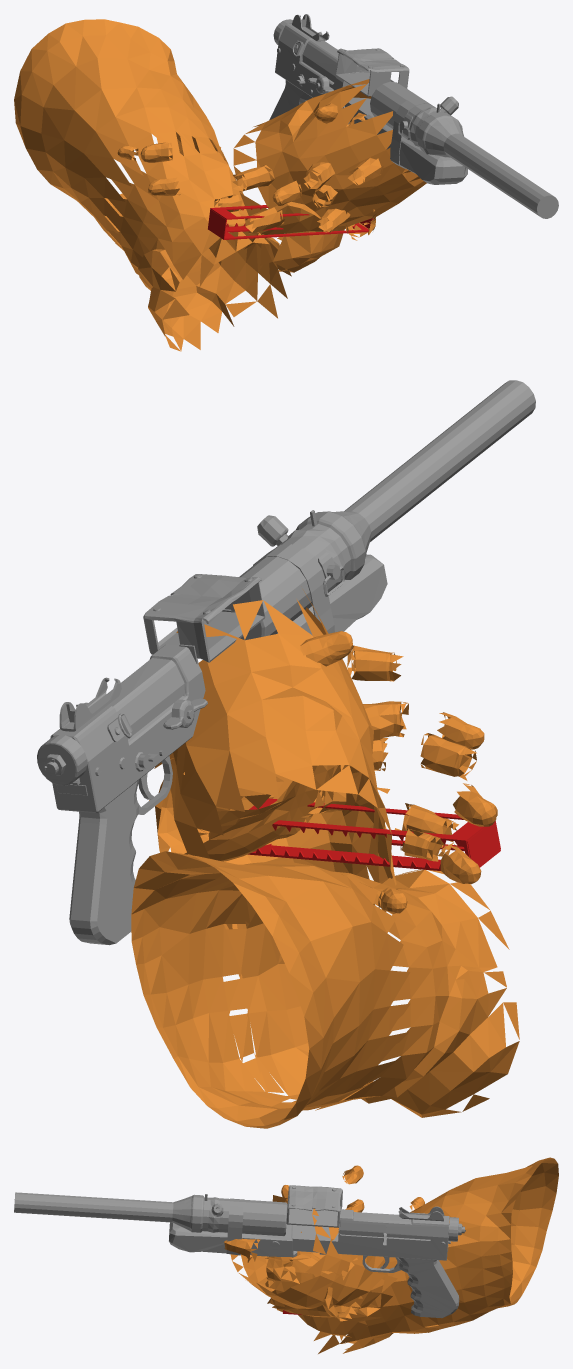
The model's file is metro_mano_cargador.obj.
The picture shows the model from 3 angles, top to bottom: view 1: azimuth 30°, elevation 25°; view 2: azimuth 150°, elevation 25°; view 3: azimuth 270°, elevation 25°; orthographic projection. The views are drawn at different scales.
Parts seen in each view (by area): view 1: mano_izq_hueso_63, mano_izq_hueso_66, mano_izq_hueso_51, arma_no_tocar_21, arma_no_tocar_3, cargador, mano_izq_hueso_93, mano_izq_hueso_102, mano_izq_hueso_84, mano_izq_hueso_96, mano_izq_hueso_90, mano_izq_hueso_108 (+2 smaller); view 2: mano_izq_hueso_63, arma_no_tocar_21, mano_izq_hueso_51, mano_izq_hueso_66, mano_izq_hueso_126, arma_no_tocar_3, cargador, arma_no_tocar_18, mano_izq_hueso_93, mano_izq_hueso_84, mano_izq_hueso_90, mano_izq_hueso_78 (+5 smaller); view 3: arma_no_tocar_21, mano_izq_hueso_63, mano_izq_hueso_51, mano_izq_hueso_66, mano_izq_hueso_126, arma_no_tocar_3, arma_no_tocar_33, mano_izq_hueso_72, mano_izq_hueso_81, mano_izq_hueso_96, arma_no_tocar_18.
Boxes of the visible parts, bbox=[...] form: mano_izq_hueso_63: bbox=[14, 19, 228, 247]; mano_izq_hueso_66: bbox=[105, 131, 291, 351]; mano_izq_hueso_51: bbox=[231, 79, 426, 272]; arma_no_tocar_21: bbox=[269, 14, 558, 218]; arma_no_tocar_3: bbox=[336, 48, 409, 96]; cargador: bbox=[208, 205, 373, 239]; mano_izq_hueso_93: bbox=[232, 165, 274, 191]; mano_izq_hueso_102: bbox=[245, 207, 284, 233]; mano_izq_hueso_84: bbox=[348, 157, 383, 185]; mano_izq_hueso_96: bbox=[140, 142, 172, 162]; mano_izq_hueso_90: bbox=[303, 162, 334, 189]; mano_izq_hueso_108: bbox=[317, 208, 350, 232]; mano_izq_hueso_63: bbox=[131, 851, 410, 1128]; arma_no_tocar_21: bbox=[44, 380, 535, 945]; mano_izq_hueso_51: bbox=[169, 590, 396, 929]; mano_izq_hueso_66: bbox=[223, 869, 519, 1117]; mano_izq_hueso_126: bbox=[149, 758, 334, 861]; arma_no_tocar_3: bbox=[143, 574, 265, 664]; cargador: bbox=[248, 798, 500, 870]; arma_no_tocar_18: bbox=[37, 735, 87, 785]; mano_izq_hueso_93: bbox=[420, 733, 476, 780]; mano_izq_hueso_84: bbox=[347, 645, 403, 681]; mano_izq_hueso_90: bbox=[363, 701, 408, 740]; mano_izq_hueso_78: bbox=[300, 631, 352, 666]; arma_no_tocar_21: bbox=[14, 1192, 465, 1318]; mano_izq_hueso_63: bbox=[406, 1157, 558, 1332]; mano_izq_hueso_51: bbox=[230, 1195, 397, 1337]; mano_izq_hueso_66: bbox=[314, 1207, 441, 1353]; mano_izq_hueso_126: bbox=[265, 1251, 362, 1321]; arma_no_tocar_3: bbox=[286, 1185, 342, 1227]; arma_no_tocar_33: bbox=[339, 1220, 386, 1248]; mano_izq_hueso_72: bbox=[274, 1252, 343, 1283]; mano_izq_hueso_81: bbox=[224, 1238, 260, 1262]; mano_izq_hueso_96: bbox=[342, 1165, 363, 1184]; arma_no_tocar_18: bbox=[448, 1217, 461, 1241].
Bounding box in the file's own units: 0.4139 × 0.4242 × 0.945.
